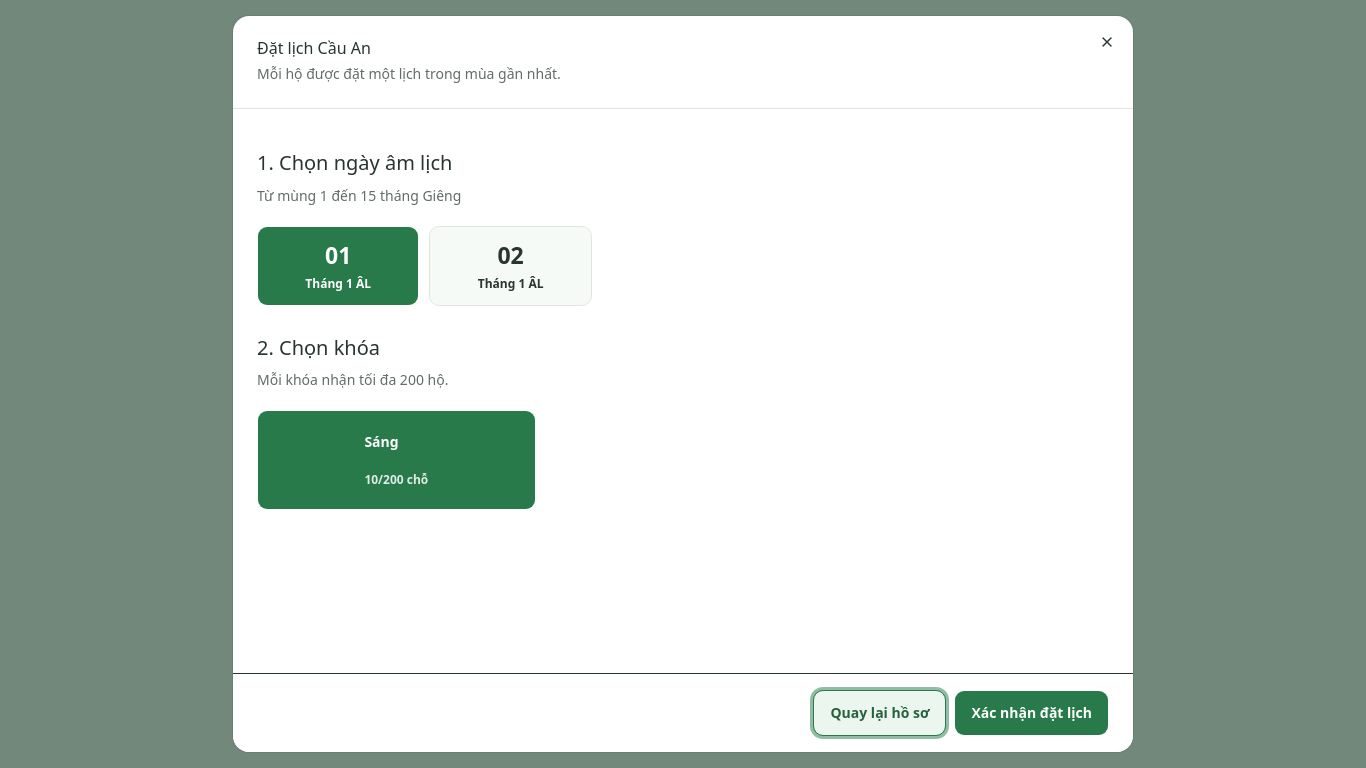
Test case: WellbeingBookingDialog › shows only the selected day periods and requires a new period after changing day
Expected: the button "Sáng 10/200 chỗ" is shown, [257,410,536,510]
Click the button "02 Tháng 1 ÂL".
click(511, 266)  # box [429,226,592,306]
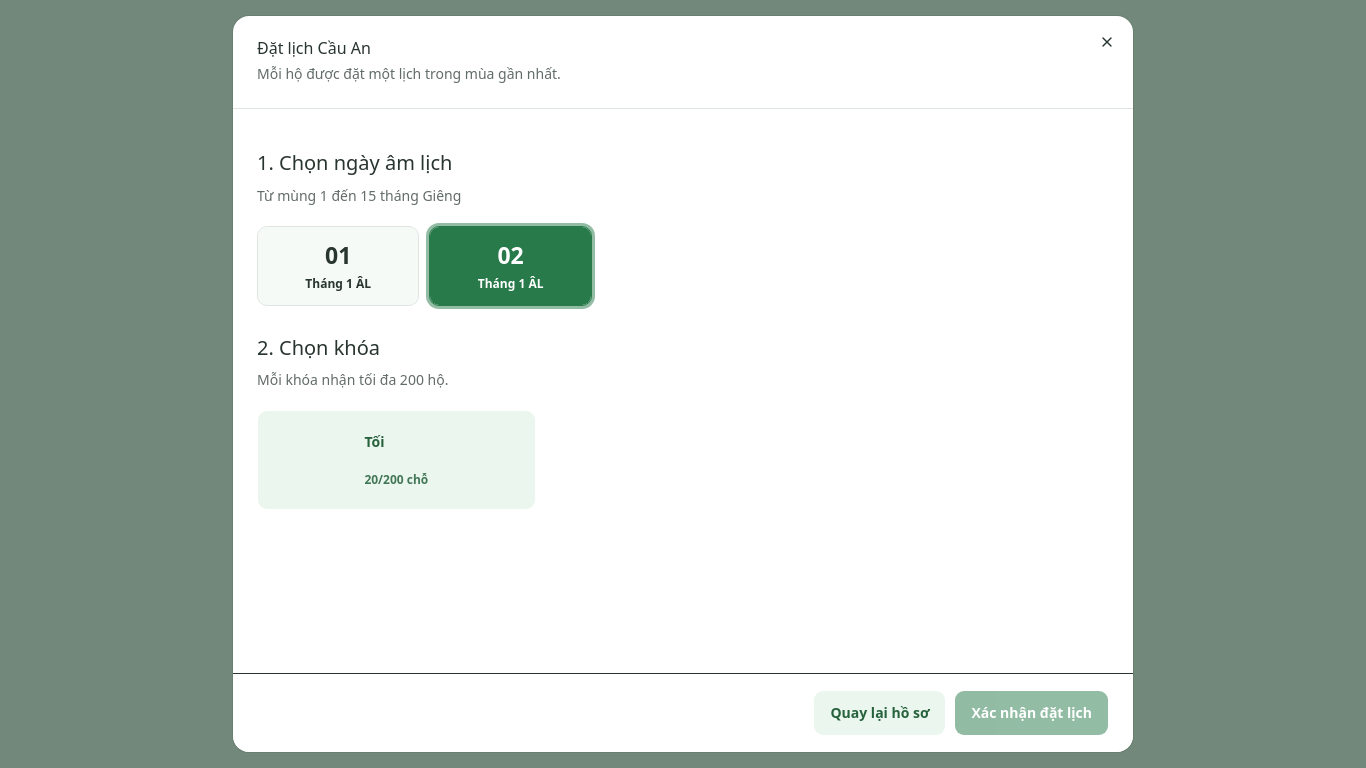
Expected: the button "Sáng" is gone
Expected: the button "Tối 20/200 chỗ" is shown
Expected: the button "Xác nhận đặt lịch" is disabled, [954,690,1109,736]
Click the button "Tối 20/200 chỗ".
click(374, 442)  # box [257,410,536,510]
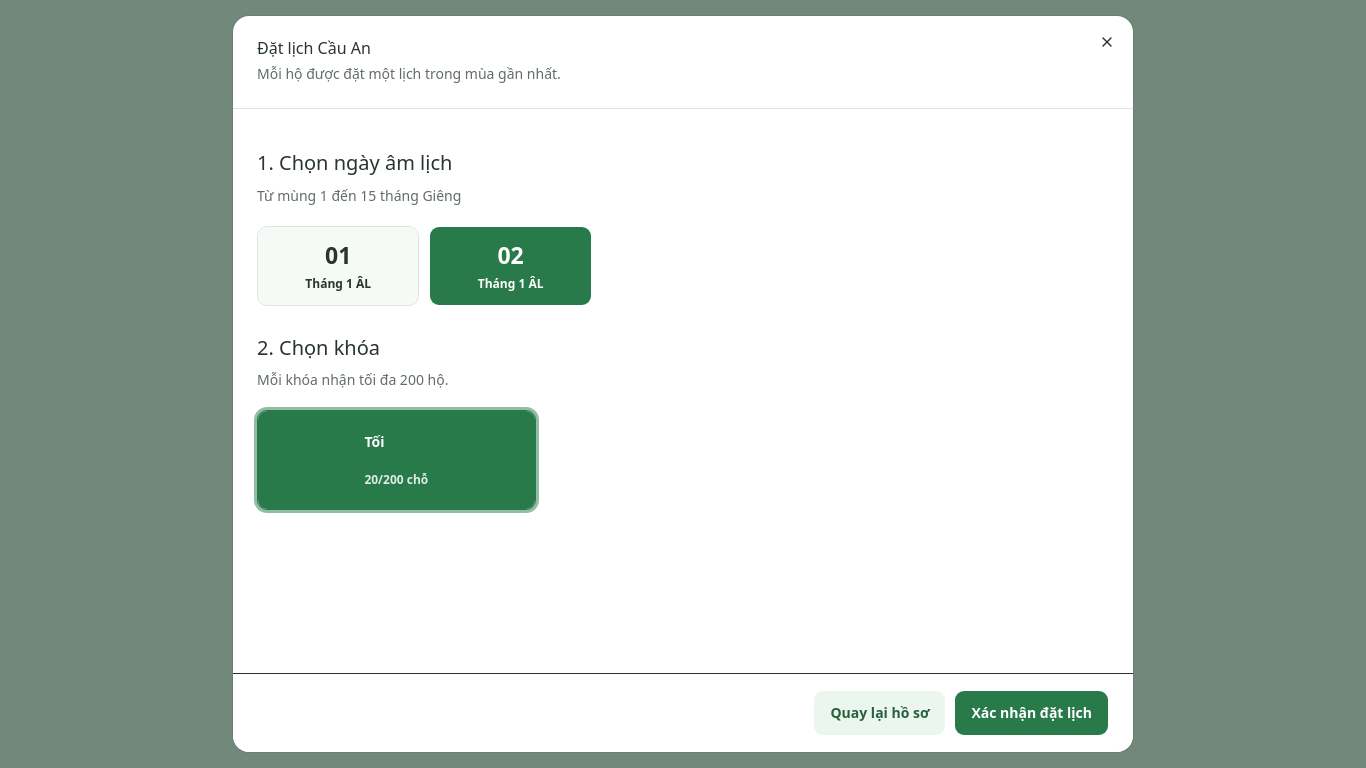
Expected: the button "Xác nhận đặt lịch" is enabled, [954,690,1109,736]
